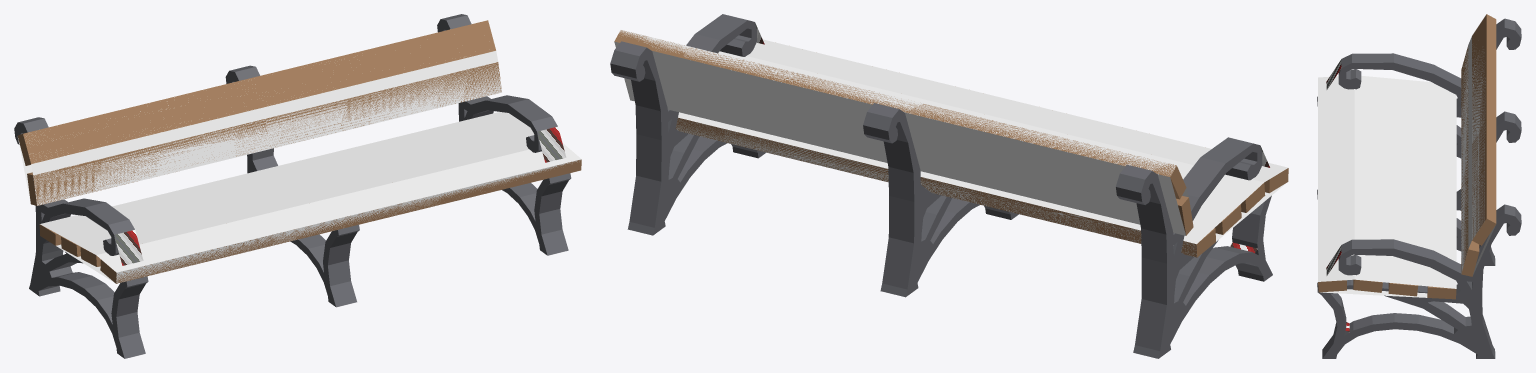
Rendered from Bench.fbx.
3 renders of one model, left to right at view 1: azimuth 30°, elevation 25°; view 2: azimuth 150°, elevation 25°; view 3: azimuth 270°, elevation 25°, orthographic. The views are drawn at different scales.
Visible parts, largest first — view 1: Bench, Bench.COL.001, Bench.COL.002, Bench.COL, Bench.COL.016, Bench.COL.007, Bench.COL.008, Bench.COL.004, Bench.COL.015; view 2: Bench, Bench.COL.002, Bench.COL.001, Bench.COL.006, Bench.COL.003, Bench.COL.009, Bench.COL.011, Bench.COL.016, Bench.COL.012, Bench.COL; view 3: Bench.COL.001, Bench, Bench.COL.002, Bench.COL, Bench.COL.016, Bench.COL.011, Bench.COL.012, Bench.COL.003.
Part boxes in pixels (x1,y1,x2,y2): Bench: (14,15,581,358); Bench.COL.001: (40,112,581,283); Bench.COL.002: (18,51,501,205); Bench.COL: (497,99,568,213); Bench.COL.016: (81,200,147,316); Bench.COL.007: (328,262,356,307); Bench.COL.008: (539,209,567,254); Bench.COL.004: (267,158,358,265); Bench.COL.015: (117,312,145,358); Bench: (611,14,1288,358); Bench.COL.002: (614,30,1188,235); Bench.COL.001: (676,39,1288,256); Bench.COL.006: (881,237,911,289); Bench.COL.003: (863,103,899,143); Bench.COL.009: (629,176,661,234); Bench.COL.011: (610,42,646,79); Bench.COL.016: (1141,142,1269,304); Bench.COL.012: (1116,165,1151,204); Bench.COL: (687,14,764,48); Bench.COL.001: (1318,75,1456,297); Bench: (1317,14,1521,358); Bench.COL.002: (1461,36,1495,274); Bench.COL: (1317,239,1482,332); Bench.COL.016: (1326,53,1460,89); Bench.COL.011: (1496,205,1521,231); Bench.COL.012: (1496,18,1521,45); Bench.COL.003: (1497,111,1521,137).
Bounding box in the file's own units: 2.82 × 0.9333 × 1.19.
